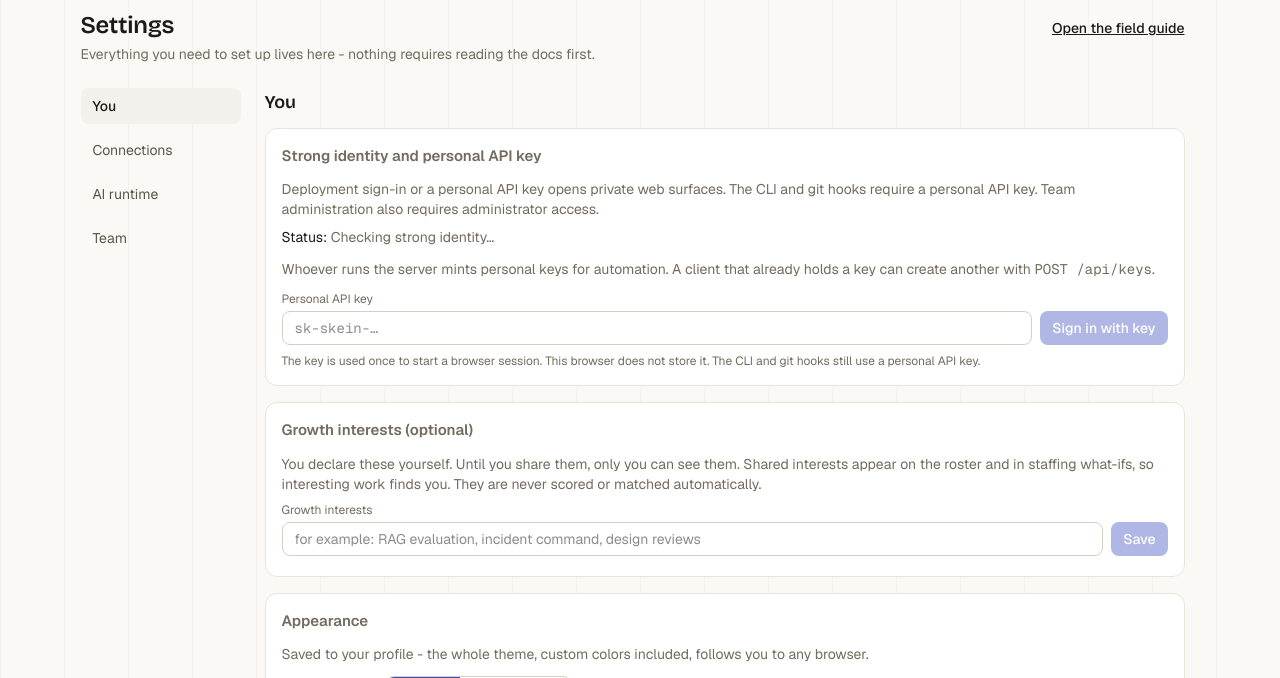
Test: Settings roster confirmations › shows a roster error without claiming an empty team
This screenshot has width=1280, height=678.
Click the link "Team". click: click(110, 238)
box: x1=92 y1=229 x2=127 y2=247
(page scrolled)
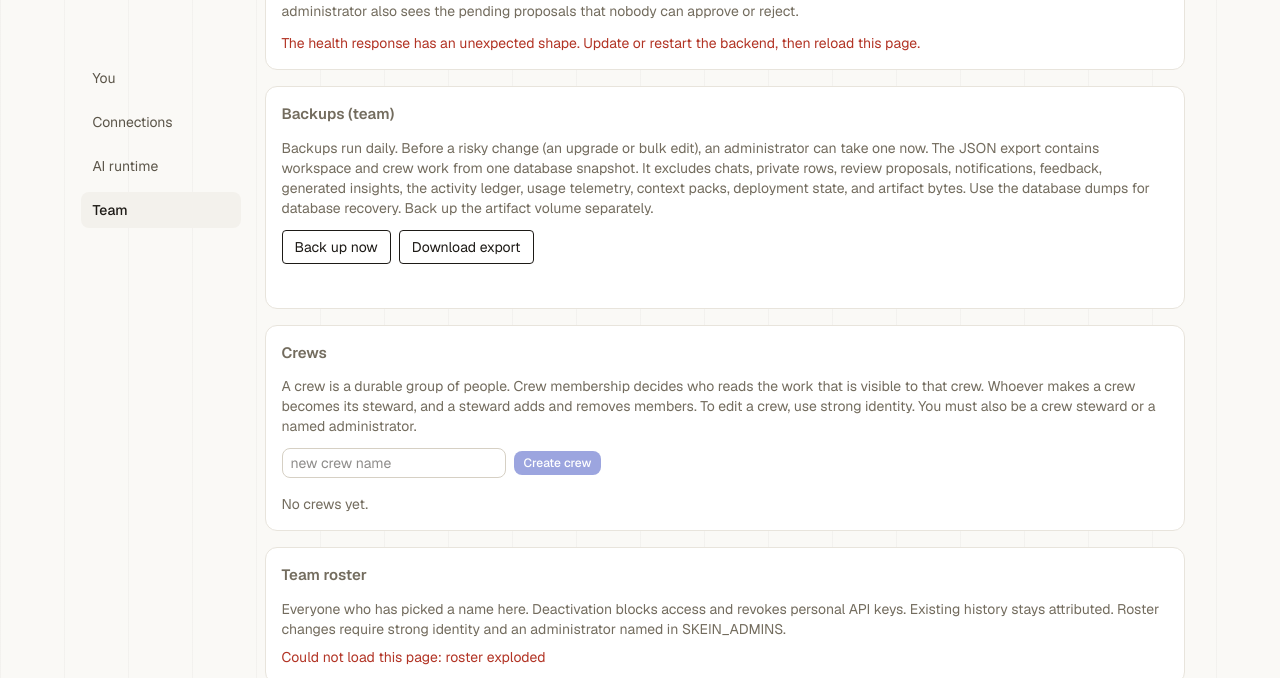
Check: the text "Could not load this page: roster exploded" is shown, box x1=282 y1=648 x2=546 y2=666
